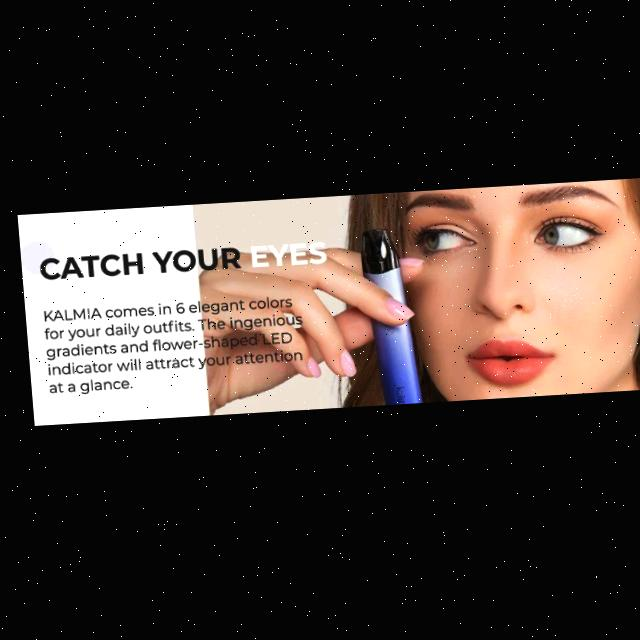vape: (356, 232, 420, 410)
